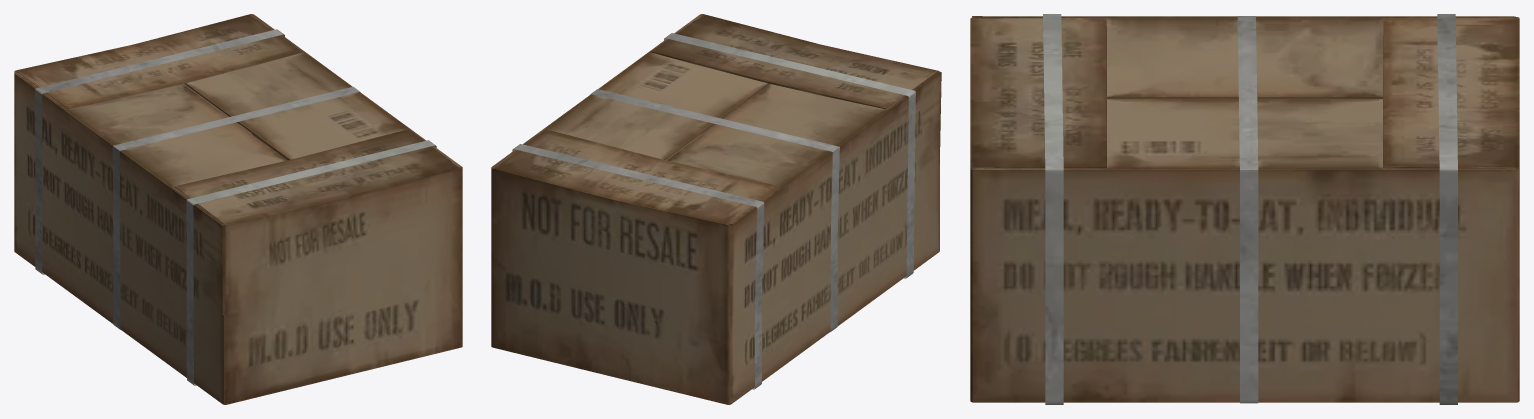
The model's file is ration_box.glb.
3 views of the same model, side by side, from view 1: azimuth 30°, elevation 25°; view 2: azimuth 150°, elevation 25°; view 3: azimuth 270°, elevation 25° (orthographic). The views are drawn at different scales.
Parts seen in each view (by area): view 1: closed box_0, SM_Box_strap.001_2, SM_Box_strap.002_3, SM_Box_strap_1; view 2: closed box_0, SM_Box_strap.001_2, SM_Box_strap_1, SM_Box_strap.002_3; view 3: closed box_0, SM_Box_strap.001_2, SM_Box_strap.002_3, SM_Box_strap_1.
Part boxes in pixels (x1=…): closed box_0: x1=14, y1=14, x2=462, y2=404; SM_Box_strap.001_2: x1=186, y1=140, x2=436, y2=385; SM_Box_strap.002_3: x1=35, y1=29, x2=284, y2=274; SM_Box_strap_1: x1=112, y1=86, x2=359, y2=329; closed box_0: x1=491, y1=14, x2=941, y2=404; SM_Box_strap.001_2: x1=664, y1=33, x2=915, y2=278; SM_Box_strap_1: x1=590, y1=89, x2=839, y2=332; SM_Box_strap.002_3: x1=512, y1=144, x2=764, y2=389; closed box_0: x1=970, y1=16, x2=1519, y2=402; SM_Box_strap.001_2: x1=1043, y1=14, x2=1063, y2=404; SM_Box_strap.002_3: x1=1437, y1=14, x2=1457, y2=404; SM_Box_strap_1: x1=1237, y1=16, x2=1258, y2=403.
Bounding box in the file's own units: 1.44 × 1.03 × 2.16.
1 material, 1 textured.
